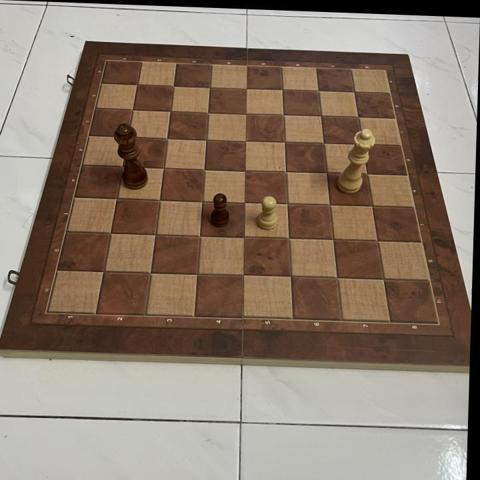xcorner: (125, 101, 142, 118), (315, 134, 332, 151), (120, 128, 137, 145), (237, 161, 254, 178), (192, 227, 209, 244), (143, 264, 160, 281), (346, 83, 362, 100), (166, 77, 182, 94), (130, 76, 146, 93), (350, 108, 366, 125), (313, 107, 329, 124), (275, 106, 292, 122), (200, 104, 217, 120), (163, 102, 179, 119), (354, 136, 371, 152), (277, 133, 293, 150), (359, 165, 375, 182), (197, 160, 213, 177), (115, 158, 132, 174), (364, 197, 380, 214), (195, 192, 211, 209), (326, 231, 342, 248), (281, 230, 298, 246), (103, 225, 120, 241), (283, 268, 299, 285), (310, 82, 326, 98), (274, 81, 290, 97), (238, 80, 254, 96), (202, 79, 218, 95), (238, 105, 254, 121), (238, 132, 254, 148), (199, 131, 215, 147), (160, 130, 176, 146), (319, 164, 335, 180), (278, 163, 294, 179), (156, 159, 172, 175), (322, 196, 338, 212), (280, 195, 296, 211), (237, 194, 253, 210), (152, 191, 168, 207), (110, 190, 126, 206), (370, 233, 386, 249), (237, 229, 253, 245), (148, 226, 164, 242), (376, 271, 392, 287), (330, 270, 346, 286), (237, 267, 253, 283), (190, 266, 206, 282), (97, 263, 113, 279)
